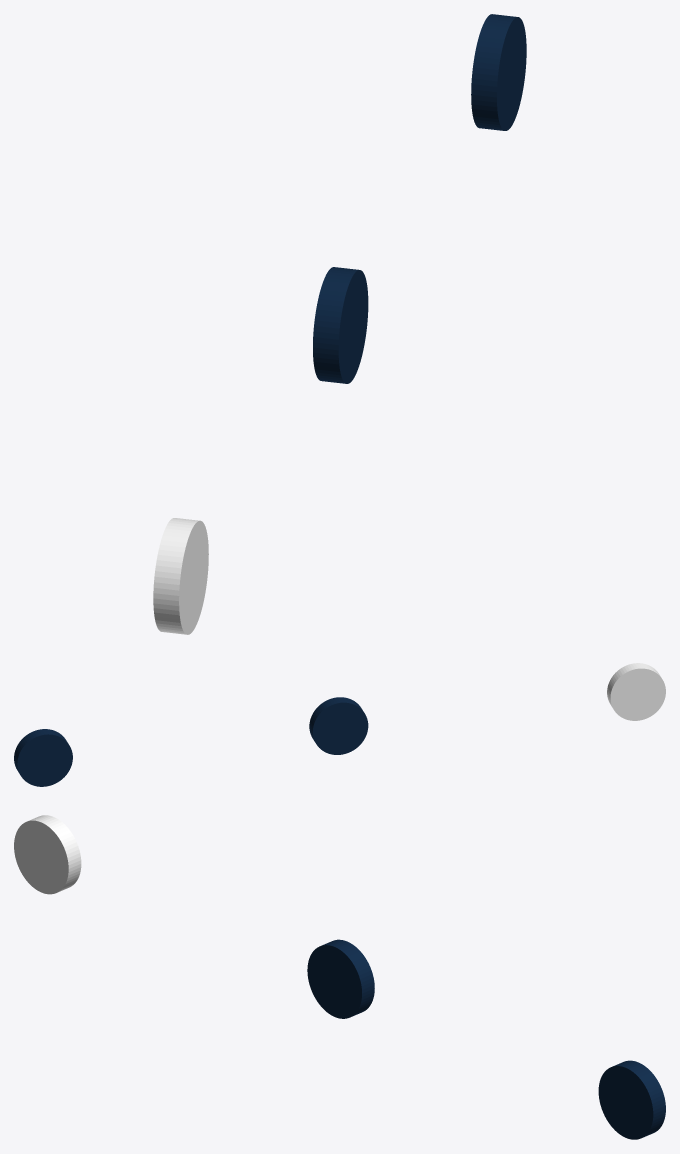
The model's file is Mappointsblue.gltf.
3 renders of one model, top to bottom at view 1: azimuth 30°, elevation 25°; view 2: azimuth 150°, elevation 25°; view 3: azimuth 270°, elevation 25°, orthographic. The views are drawn at different scales.
Bounding box in the file's own units: 49.09 × 6 × 49.09.
